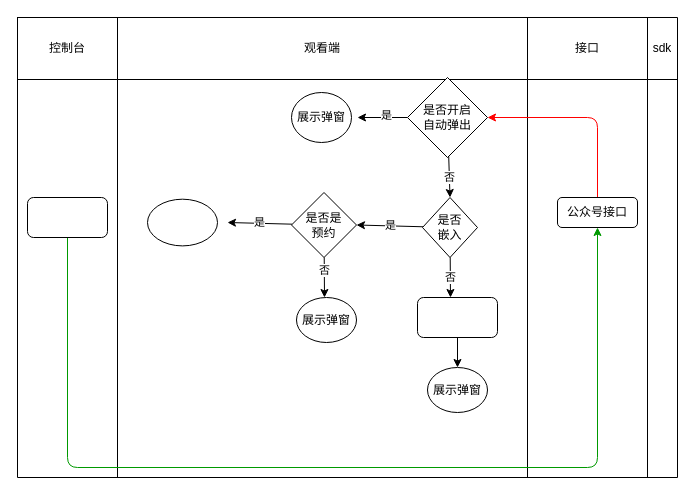
This 695x495 diagram has some shape labels left out. The shapes that lost their labels are listed below. From the top down, each one's centre as x and y in pixels, then its label:
At [67,217]: "开启公众号".
At [182,222]: "不显示弹窗".
At [457,317]: "点击公众号icon".
